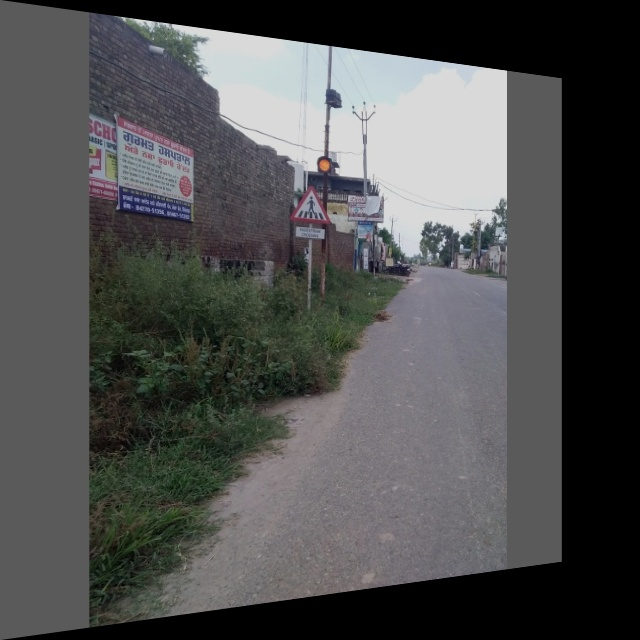Pedestrian_Crossing: (285, 184, 337, 232)
